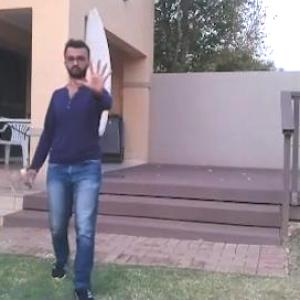follow_hand: (75, 53, 116, 97)
